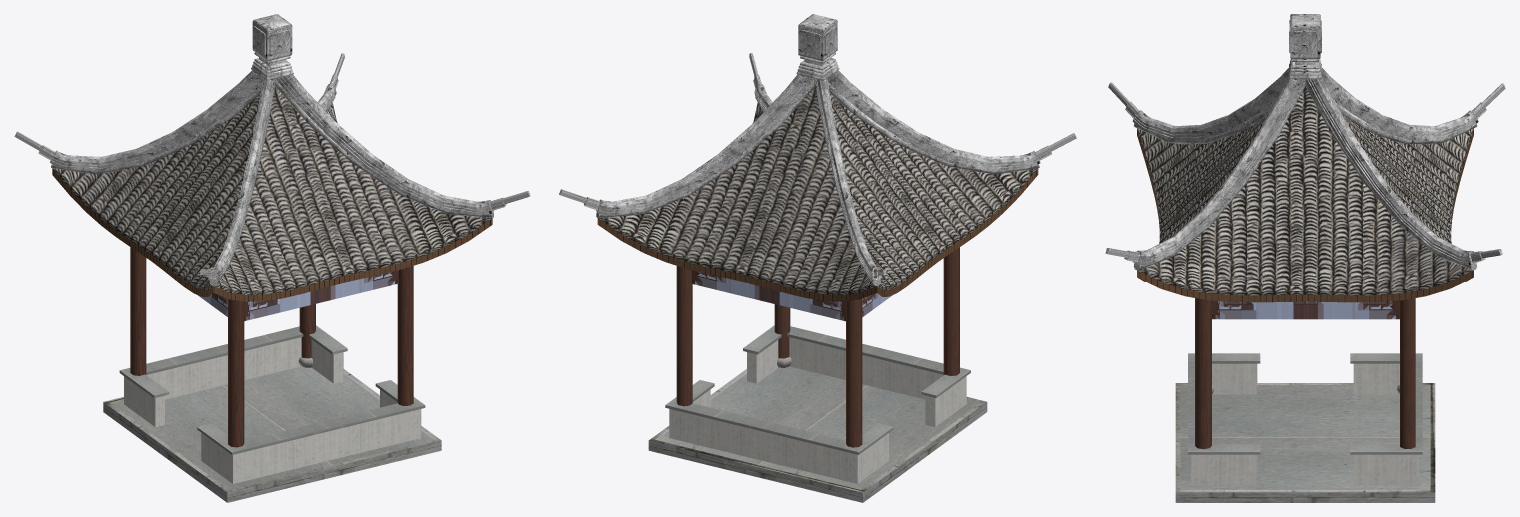
The model's file is 古建筑凉亭.gltf.
3 renders of one model, left to right at view 1: azimuth 30°, elevation 25°; view 2: azimuth 150°, elevation 25°; view 3: azimuth 270°, elevation 25°, orthographic. The views are drawn at different scales.
Parts seen in each view (by area): view 1: Box006; view 2: Box006; view 3: Box006.
Part boxes in pixels (x1,y1,x2,y2): Box006: (14,14,530,502); Box006: (559,14,1076,502); Box006: (1105,14,1505,502).
Size of the model in its own units: 12.89 by 15.25 by 12.89.
Materials: 10 (10 with a texture image).
